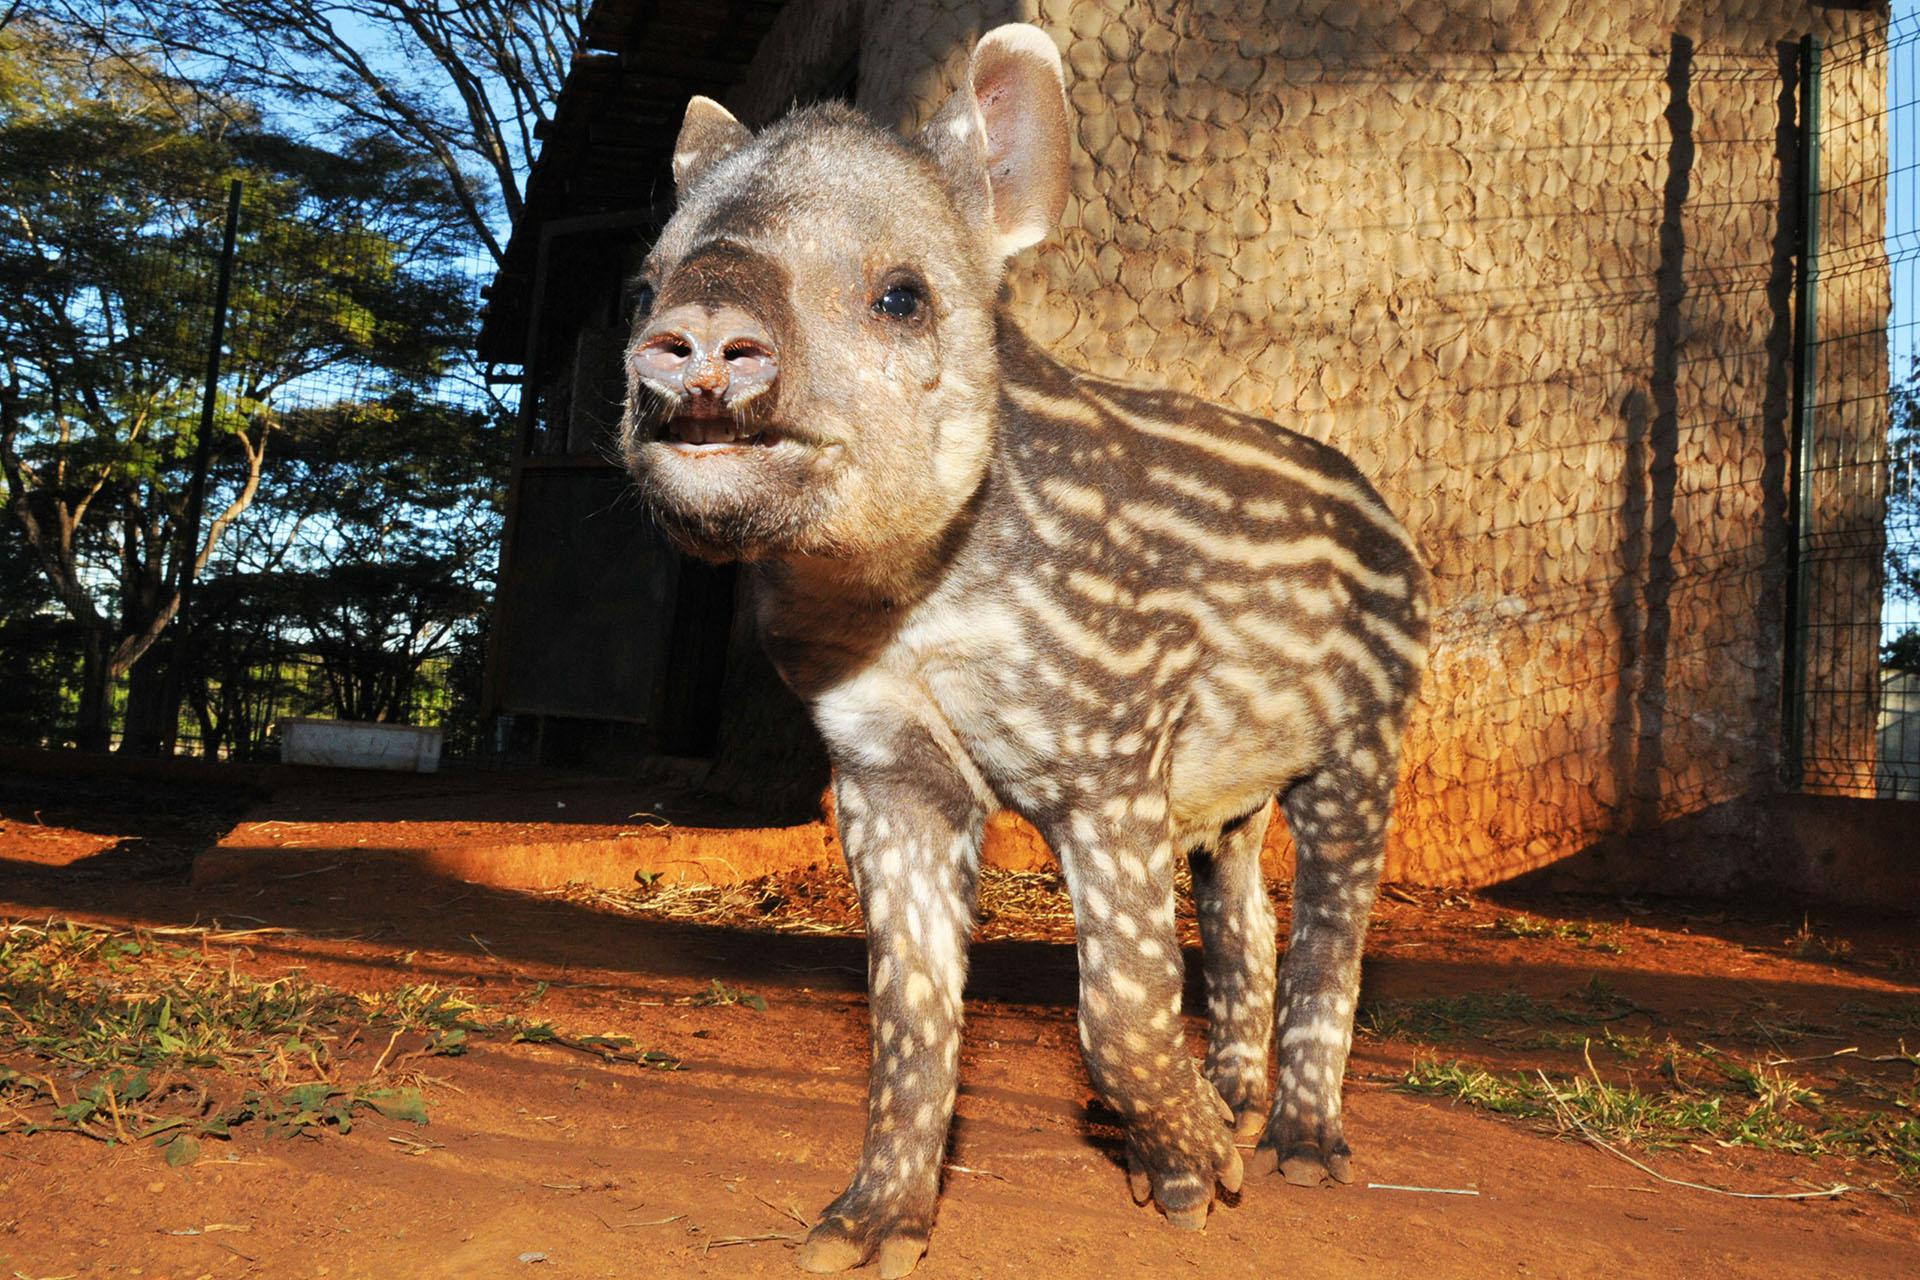Anta: (596, 23, 1440, 1260)
